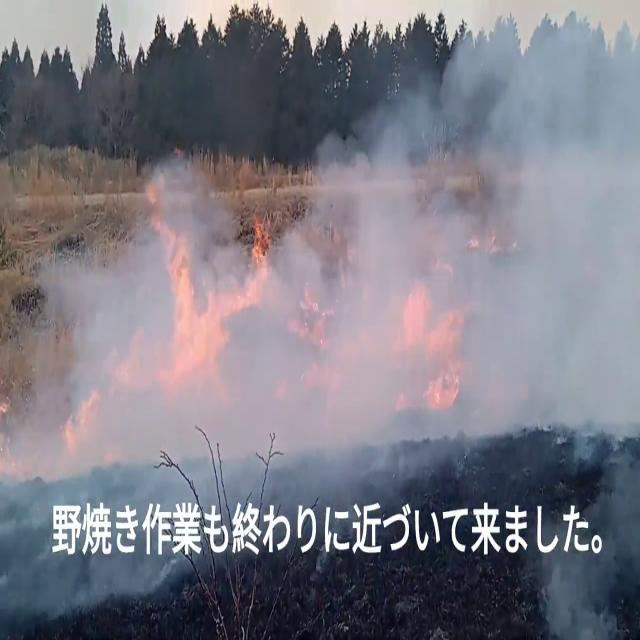Fire: (157, 202, 227, 386), (398, 264, 470, 404)
Smoke: (1, 19, 640, 472), (6, 143, 239, 493)
